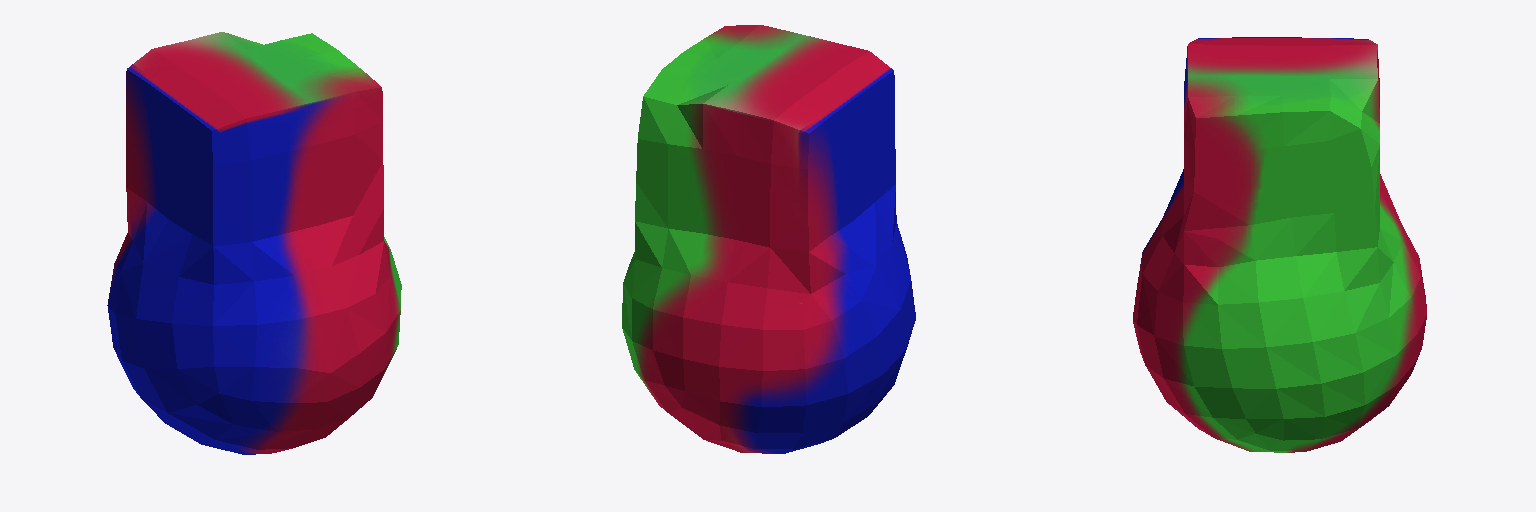
3 renders of one model, left to right at view 1: azimuth 30°, elevation 25°; view 2: azimuth 150°, elevation 25°; view 3: azimuth 270°, elevation 25°, orthographic.
Visible parts, largest first — view 1: Volume4; view 2: Volume4; view 3: Volume4.
Part boxes in pixels (left/top/right/bottom): Volume4: left=107, top=32, right=401, bottom=454; Volume4: left=622, top=25, right=915, bottom=453; Volume4: left=1133, top=37, right=1426, bottom=452.
Bounding box in the file's own units: 81.32 × 114 × 82.24.
Materials: 1 (1 with a texture image).